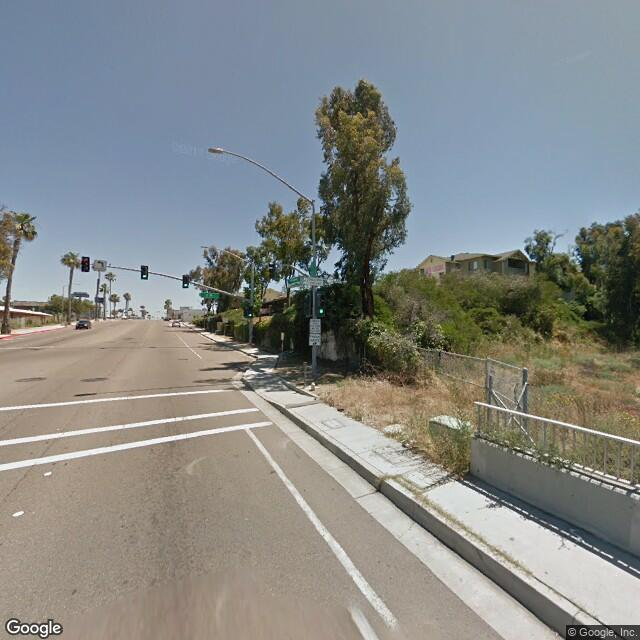litter: (400, 438, 415, 451)
